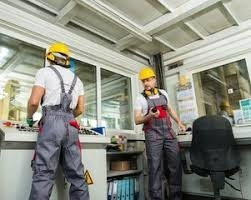helmet: (46, 41, 71, 58), (139, 66, 156, 82)
person with partial safety: (27, 40, 86, 198), (135, 66, 184, 200)
